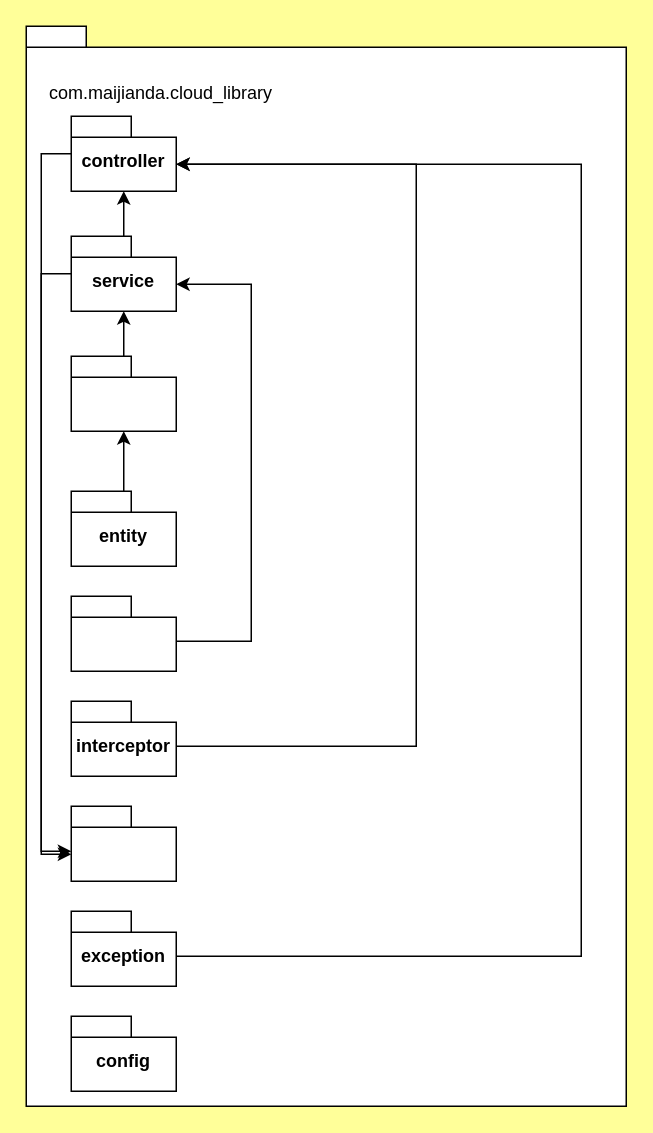
This 653x1133 diagram has some shape labels left out. Each missing label, with the centre of its shape:
aspect: point 123,633
mapper: point 123,393
utils: point 123,843
